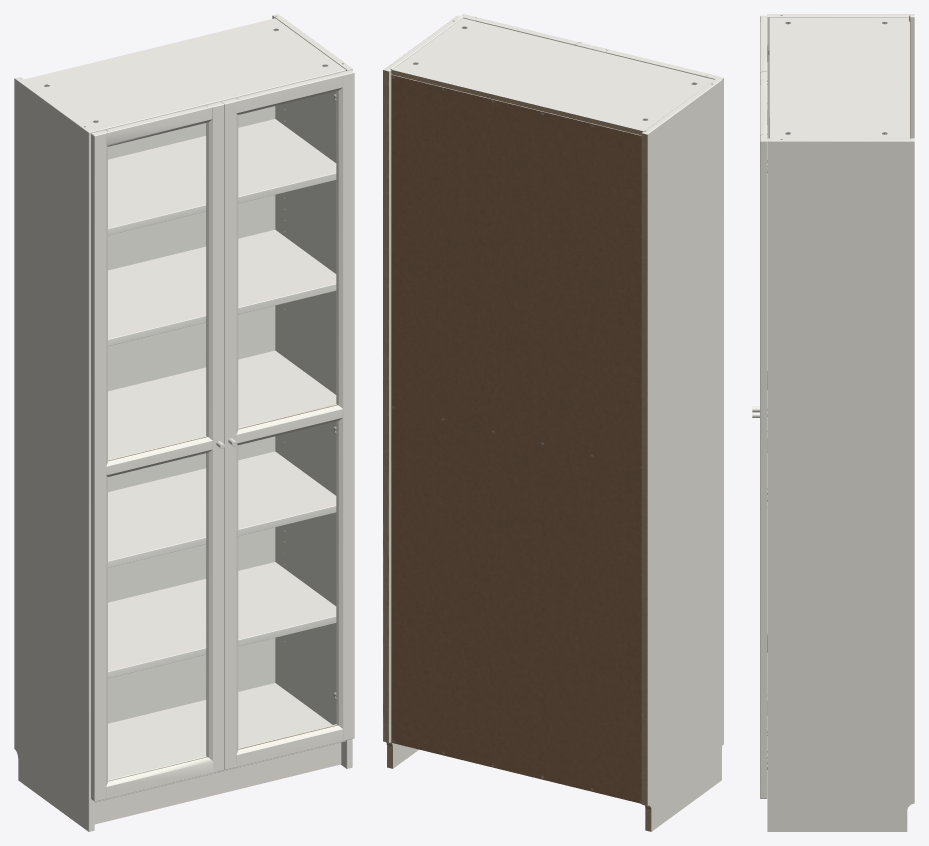
File: billy_oxberg_witryna_79398832.glb
3 views of the same model, side by side, from view 1: azimuth 30°, elevation 25°; view 2: azimuth 150°, elevation 25°; view 3: azimuth 270°, elevation 25° (orthographic).
Visible parts, largest first — view 1: billy_oxberg_witryna_79398832; view 2: billy_oxberg_witryna_79398832; view 3: billy_oxberg_witryna_79398832.
Part boxes in pixels (left/top/right/bottom): billy_oxberg_witryna_79398832: left=14, top=14, right=354, bottom=831; billy_oxberg_witryna_79398832: left=383, top=14, right=723, bottom=831; billy_oxberg_witryna_79398832: left=752, top=14, right=914, bottom=831.
Size of the model in its own units: 0.798 by 2.02 by 0.4308.
Materials: 2 (1 with a texture image).
